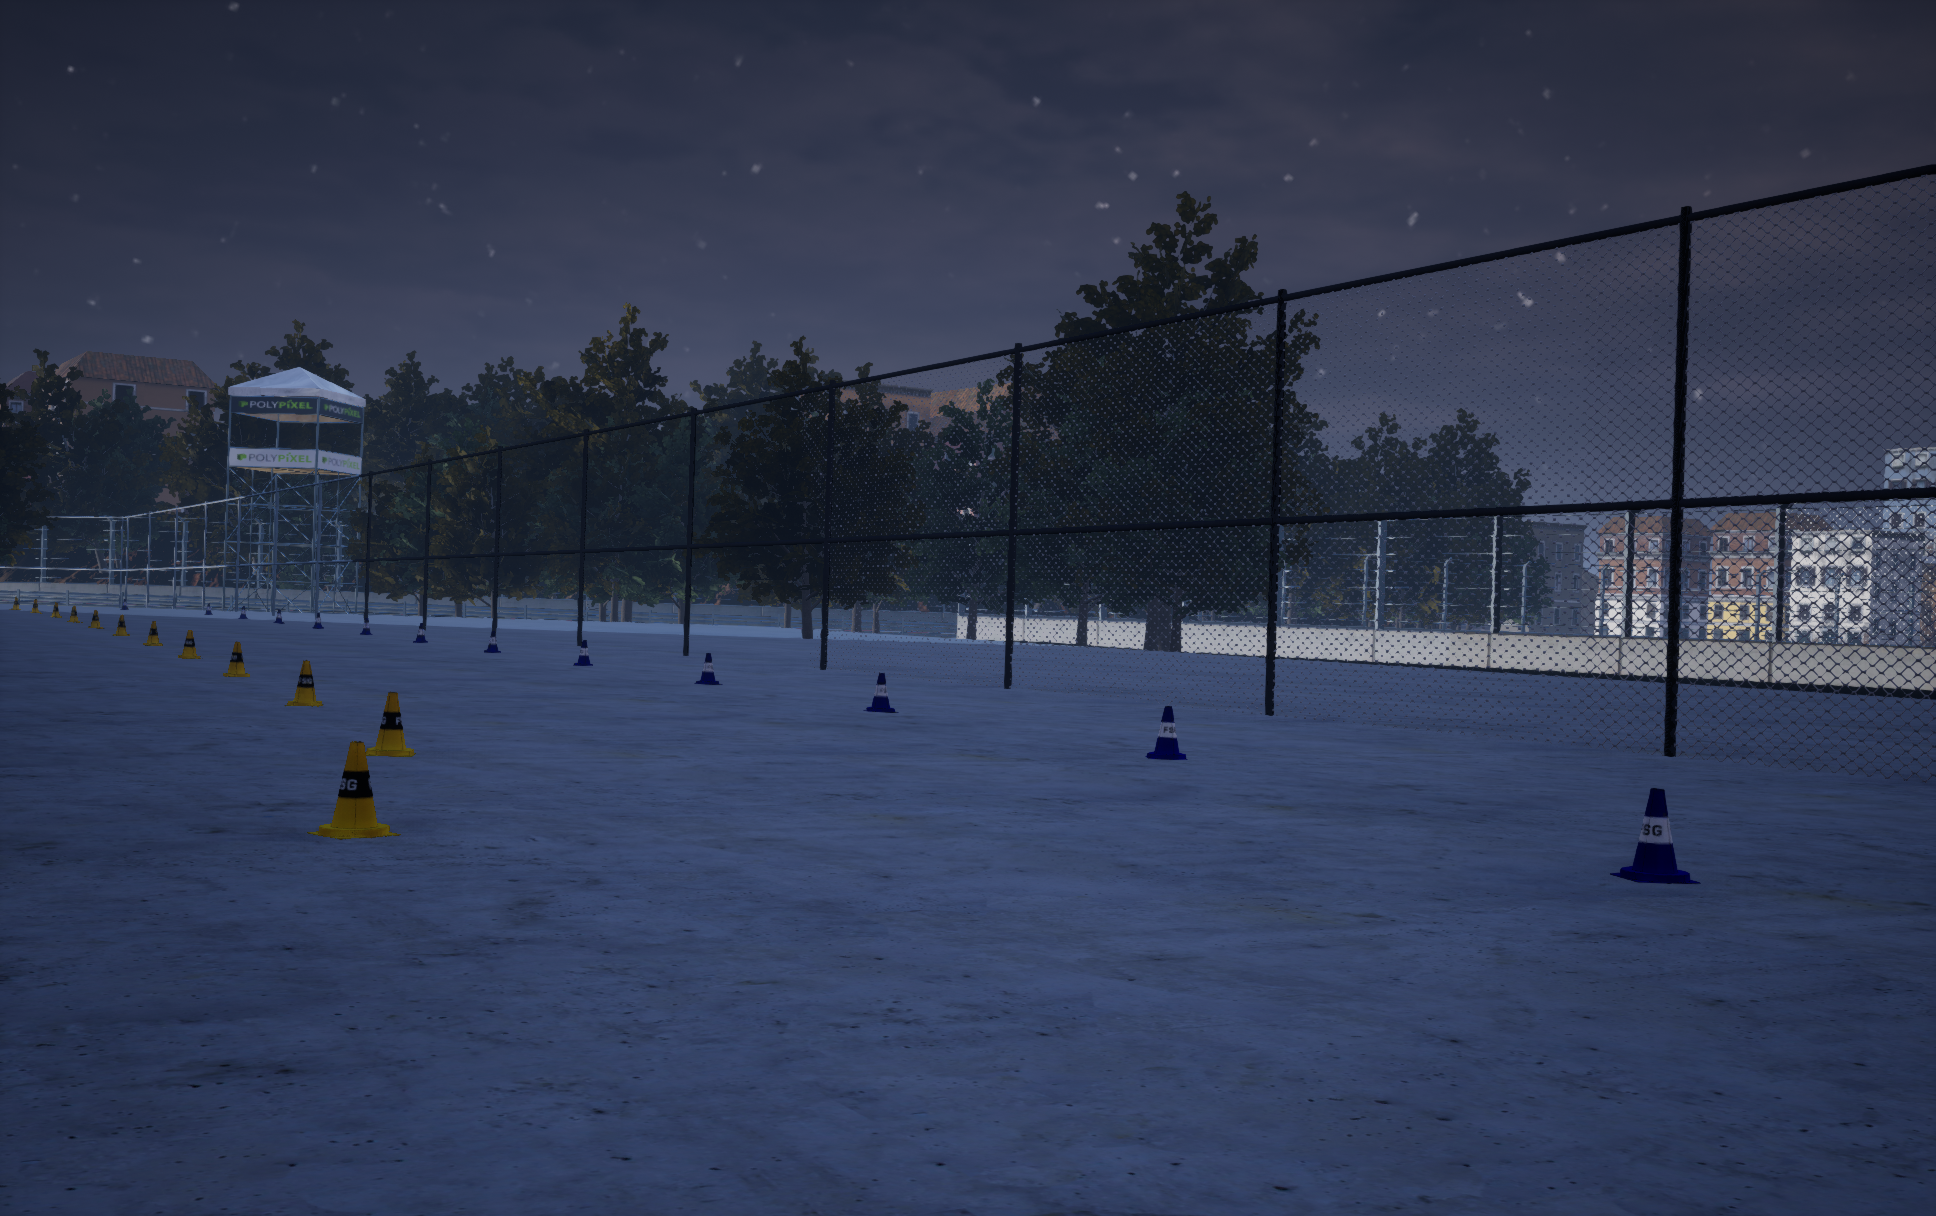blue: (307, 741, 401, 839), (366, 692, 415, 756), (284, 660, 324, 706), (223, 642, 249, 677), (178, 630, 202, 658), (143, 621, 163, 644), (112, 615, 129, 635)
yellow: (1610, 787, 1701, 883), (1145, 706, 1187, 759), (863, 672, 898, 712), (693, 653, 721, 684), (573, 640, 593, 665), (485, 630, 500, 651), (413, 623, 427, 642)
